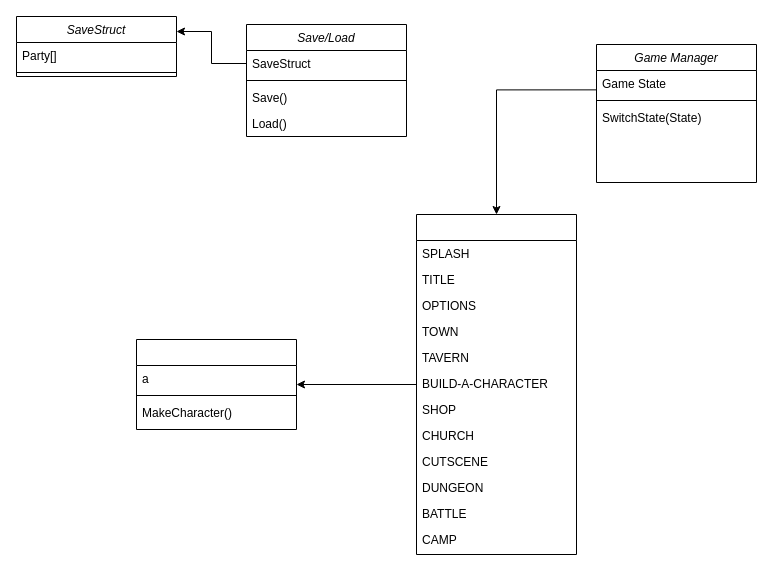
This 773x571 diagram has some shape labels left out. Here are the shapes that lost their labels. From the top down, the box of each, then its label:
(136, 338, 296, 430): CharacterMaker
(416, 214, 576, 554): States
